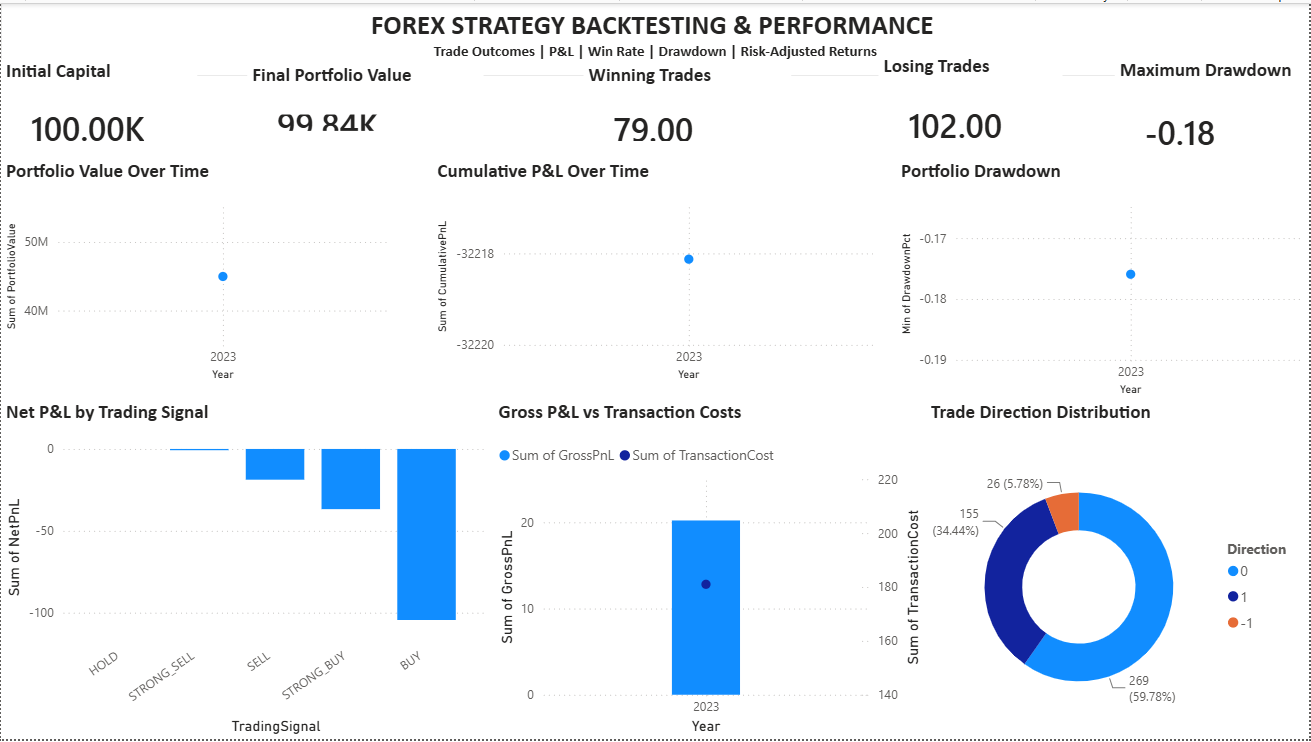

This screenshot's page, from the dashboard's own definition file:
{"tool":"powerbi","page":{"name":"Backtesting & Performance","canvas":[1280,720],"ordinal":4},"visuals":[{"type":"textbox","box":[0,0,1280.3,70.9],"z":0},{"type":"lineChart","title":"Portfolio Value Over Time","fields":{"Category":["backtest_results.DateTime.Variation.Date Hierarchy.Year","backtest_results.DateTime.Variation.Date Hierarchy.Quarter","backtest_results.DateTime.Variation.Date Hierarchy.Month","backtest_results.DateTime.Variation.Date Hierarchy.Day"],"Y":["Sum(backtest_results.PortfolioValue)"]},"box":[0,152.9,382.7,221.3],"z":1000},{"type":"lineChart","title":"Cumulative P&L Over Time","fields":{"Category":["backtest_results.DateTime.Variation.Date Hierarchy.Year","backtest_results.DateTime.Variation.Date Hierarchy.Quarter","backtest_results.DateTime.Variation.Date Hierarchy.Month","backtest_results.DateTime.Variation.Date Hierarchy.Day"],"Y":["Sum(backtest_results.CumulativePnL)"]},"box":[421.9,152.9,436.6,221.3],"z":2000},{"type":"clusteredColumnChart","title":"Net P&L by Trading Signal","fields":{"Category":["backtest_results.TradingSignal"],"Y":["Sum(backtest_results.NetPnL)"]},"box":[0,388.9,481.8,331.4],"z":3000},{"type":"lineChart","title":"Portfolio Drawdown","fields":{"Category":["backtest_results.DateTime.Variation.Date Hierarchy.Year","backtest_results.DateTime.Variation.Date Hierarchy.Quarter","backtest_results.DateTime.Variation.Date Hierarchy.Month","backtest_results.DateTime.Variation.Date Hierarchy.Day"],"Y":["Min(backtest_results.DrawdownPct)"]},"box":[875.5,152.9,404.8,236],"z":4000},{"type":"lineClusteredColumnComboChart","title":"Gross P&L vs Transaction Costs","fields":{"Category":["backtest_results.DateTime.Variation.Date Hierarchy.Year","backtest_results.DateTime.Variation.Date Hierarchy.Quarter","backtest_results.DateTime.Variation.Date Hierarchy.Month","backtest_results.DateTime.Variation.Date Hierarchy.Day"],"Y":["Sum(backtest_results.GrossPnL)"],"Y2":["Sum(backtest_results.TransactionCost)"]},"box":[481.8,388.9,423.1,331.4],"z":5000},{"type":"donutChart","title":"Trade Direction Distribution","fields":{"Category":["backtest_results.Direction"],"Y":["CountNonNull(backtest_results.Direction)"]},"box":[904.9,388.9,375.4,331.4],"z":6000},{"type":"cardVisual","title":"Initial Capital","fields":{"Data":["Sum(backtest_summary.Value)"]},"box":[0,55,192,97.8],"z":7000},{"type":"cardVisual","title":"Final Portfolio Value","fields":{"Data":["Sum(backtest_summary.Value)"]},"box":[240.9,58.7,231.1,84.4],"z":8000},{"type":"cardVisual","title":"Winning Trades","fields":{"Data":["Sum(backtest_summary.Value)"]},"box":[569.8,58.7,203,94.2],"z":9000},{"type":"cardVisual","title":"Losing Trades","fields":{"Data":["Sum(backtest_summary.Value)"]},"box":[858.4,50.1,179.8,102.7],"z":10000},{"type":"cardVisual","title":"Maximum Drawdown","fields":{"Data":["Avg(backtest_summary.Value)"]},"box":[1089.5,53.8,190.8,107.6],"z":11000}]}

Visuals, with their boxes in screenshot pixels (x1, y1, x2, y2), scaled from the page's 1280x720 canvas onto the 1311x742 screenshot:
textbox: [0, 0, 1310, 73]
"Portfolio Value Over Time" lineChart: [0, 158, 392, 386]
"Cumulative P&L Over Time" lineChart: [432, 158, 879, 386]
"Net P&L by Trading Signal" clusteredColumnChart: [0, 401, 493, 741]
"Portfolio Drawdown" lineChart: [897, 158, 1310, 401]
"Gross P&L vs Transaction Costs" lineClusteredColumnComboChart: [493, 401, 927, 741]
"Trade Direction Distribution" donutChart: [927, 401, 1310, 741]
"Initial Capital" cardVisual: [0, 57, 197, 157]
"Final Portfolio Value" cardVisual: [247, 60, 483, 147]
"Winning Trades" cardVisual: [584, 60, 792, 158]
"Losing Trades" cardVisual: [879, 52, 1063, 157]
"Maximum Drawdown" cardVisual: [1116, 55, 1310, 166]
